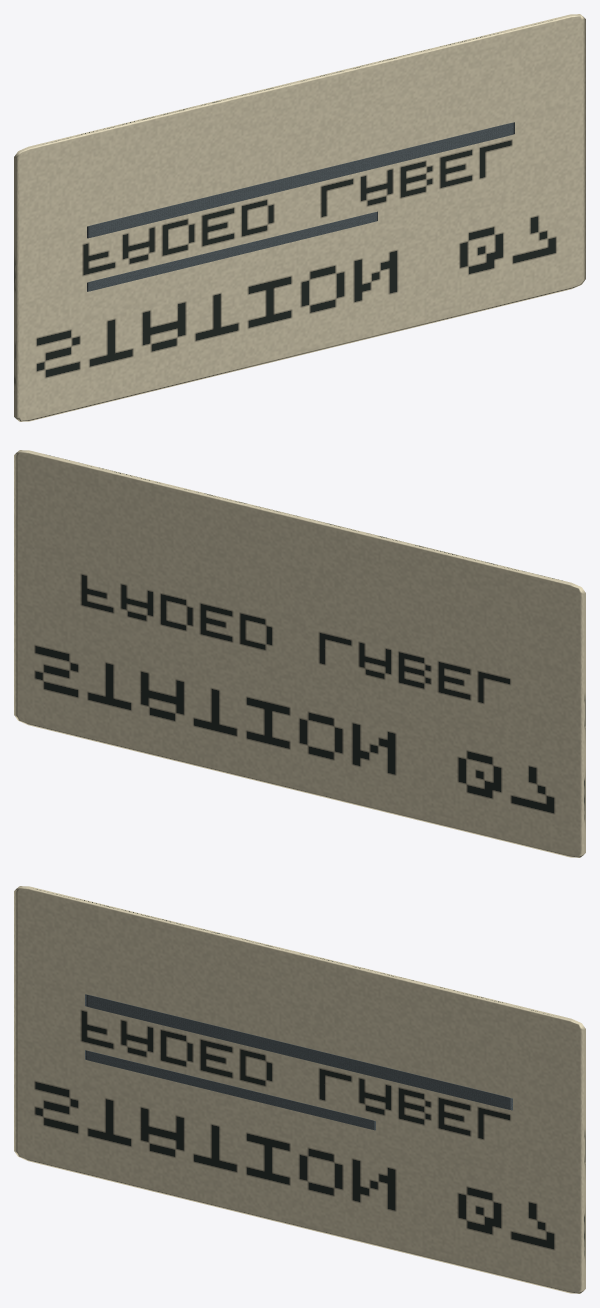
File: faded-label.glb
3 views of the same model, one above another, from view 1: azimuth 30°, elevation 25°; view 2: azimuth 150°, elevation 25°; view 3: azimuth 330°, elevation 25° (orthographic).
Visible parts, largest first — view 1: board, stripe, line; view 2: board; view 3: board, stripe, line.
Part boxes in pixels (x1,y1,x2,y2): board: (14,14,585,421); stripe: (87,122,514,238); line: (87,211,377,291); board: (14,450,585,857); board: (14,886,585,1293); stripe: (85,994,512,1110); line: (85,1050,375,1130).
Bounding box in the file's own units: 0.12 × 0.055 × 0.00068.
2 materials, 2 textured.
